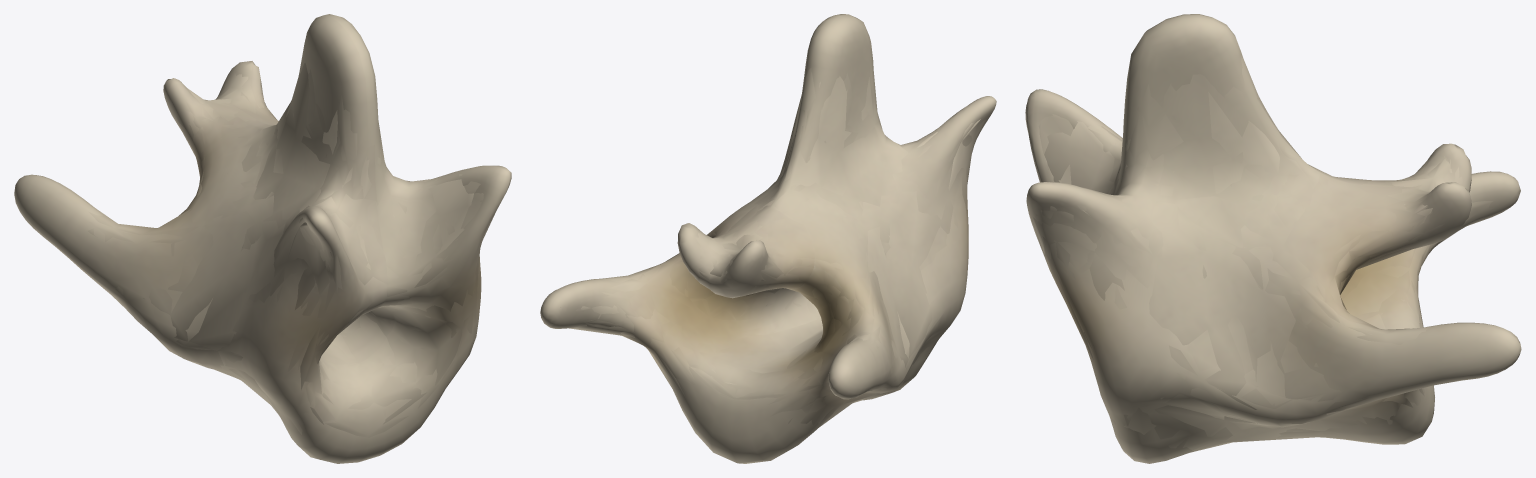
File: vertebrae thoracicae 11.fbx
The picture shows the model from 3 angles, left to right: view 1: azimuth 30°, elevation 25°; view 2: azimuth 150°, elevation 25°; view 3: azimuth 270°, elevation 25°; orthographic projection. The views are drawn at different scales.
Parts seen in each view (by area): view 1: vertebrae thoracicae 11 high, vertebrae thoracicae 11 low, vertebrae thoracicae 11; view 2: vertebrae thoracicae 11 high, vertebrae thoracicae 11 low, vertebrae thoracicae 11; view 3: vertebrae thoracicae 11 high, vertebrae thoracicae 11 low, vertebrae thoracicae 11.
Part boxes in pixels (<box>): vertebrae thoracicae 11 high: <box>14,14,511,463</box>; vertebrae thoracicae 11 low: <box>87,63,482,424</box>; vertebrae thoracicae 11: <box>88,69,496,437</box>; vertebrae thoracicae 11 high: <box>540,14,996,463</box>; vertebrae thoracicae 11 low: <box>569,76,985,427</box>; vertebrae thoracicae 11: <box>560,58,982,425</box>; vertebrae thoracicae 11 high: <box>1025,14,1521,463</box>; vertebrae thoracicae 11 low: <box>1033,92,1462,452</box>; vertebrae thoracicae 11: <box>1031,56,1494,452</box>.
Size of the model in its own units: 5.79 by 6.91 by 7.1.
